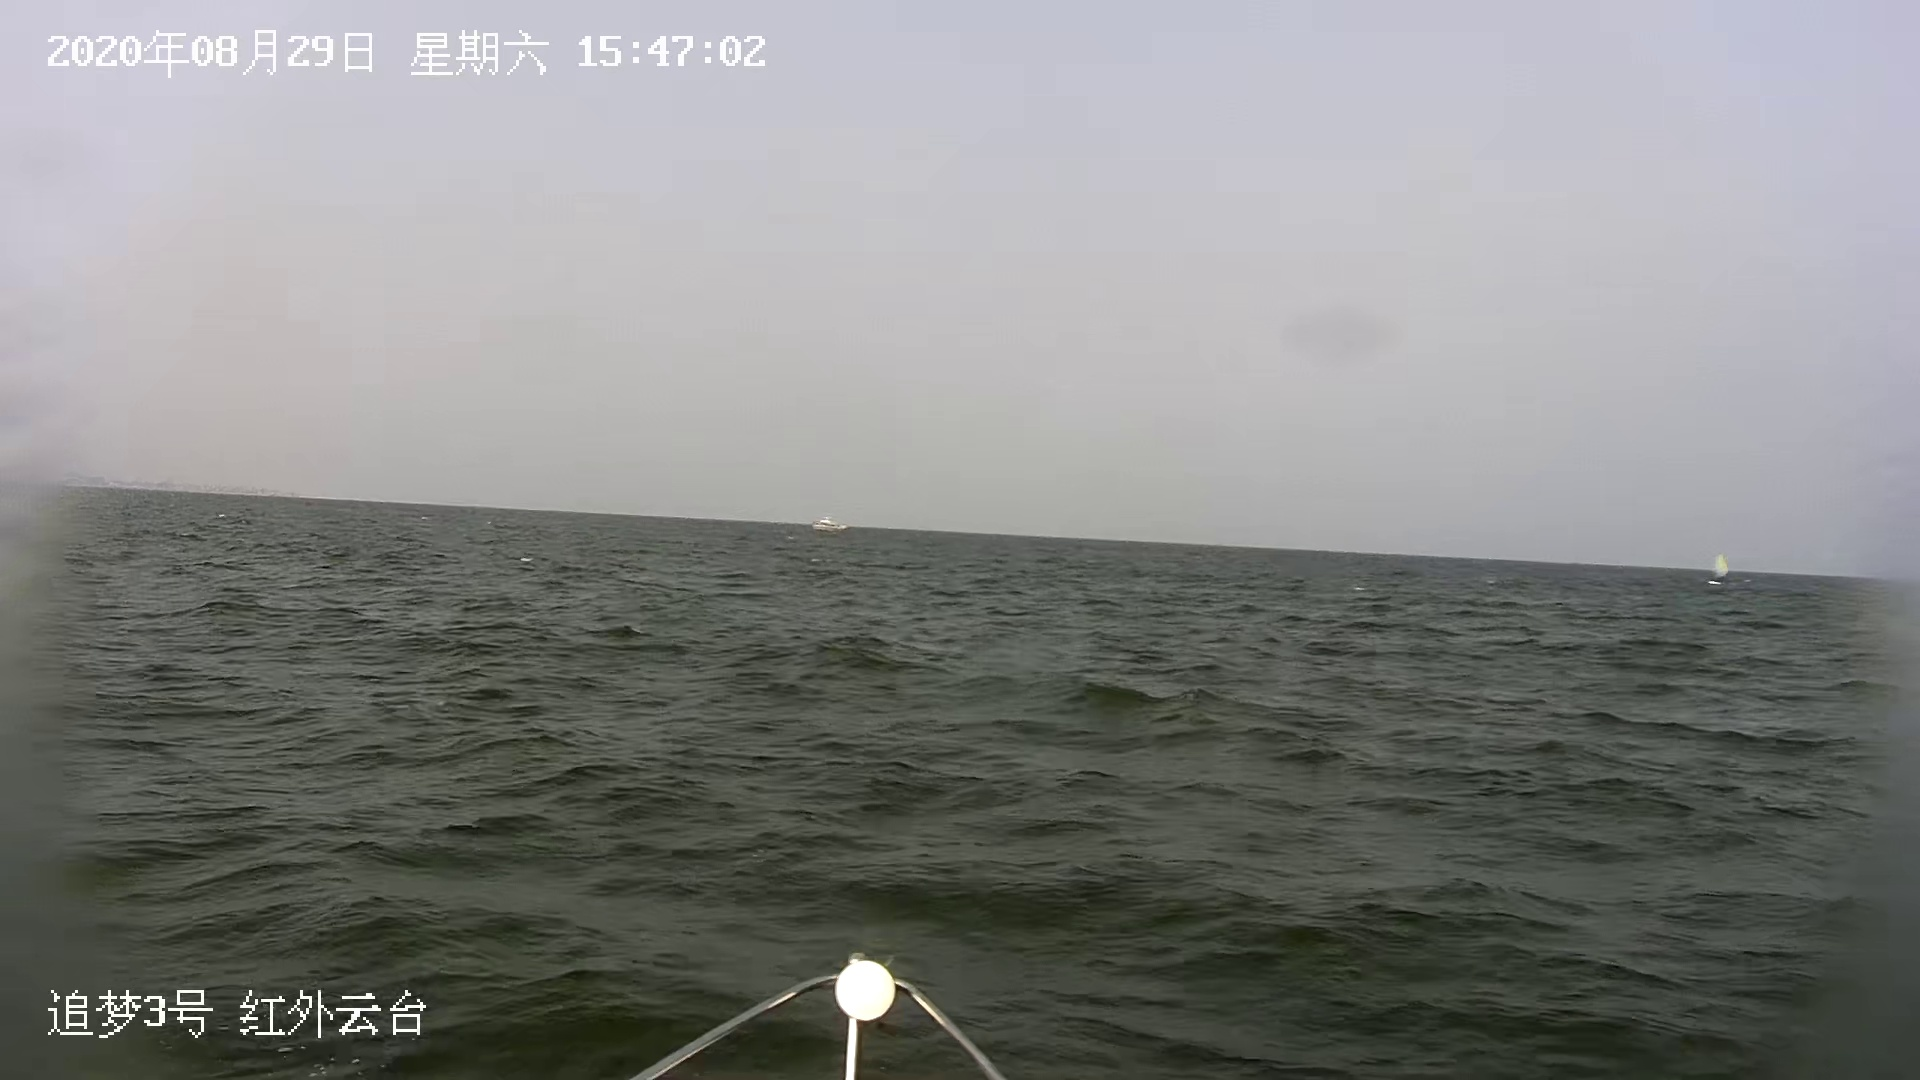barrier: (814, 513, 852, 541), (1709, 556, 1735, 596)
